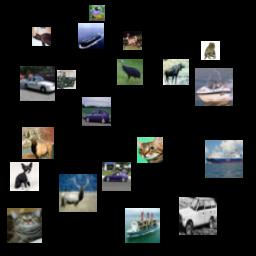automobile: (179, 197, 217, 235), (20, 66, 55, 101), (82, 97, 111, 126), (102, 162, 131, 191)
bird: (117, 59, 143, 85), (89, 5, 105, 21)
cat: (7, 208, 42, 243), (137, 137, 163, 163)
deer: (59, 174, 97, 212), (22, 127, 54, 159), (163, 59, 189, 85), (123, 31, 142, 50)
dog: (10, 162, 39, 191), (32, 27, 51, 46)
frog: (201, 41, 220, 60)
ship: (195, 68, 233, 106), (205, 140, 243, 178), (125, 208, 160, 243), (78, 23, 104, 49)
truck: (57, 70, 76, 89)
